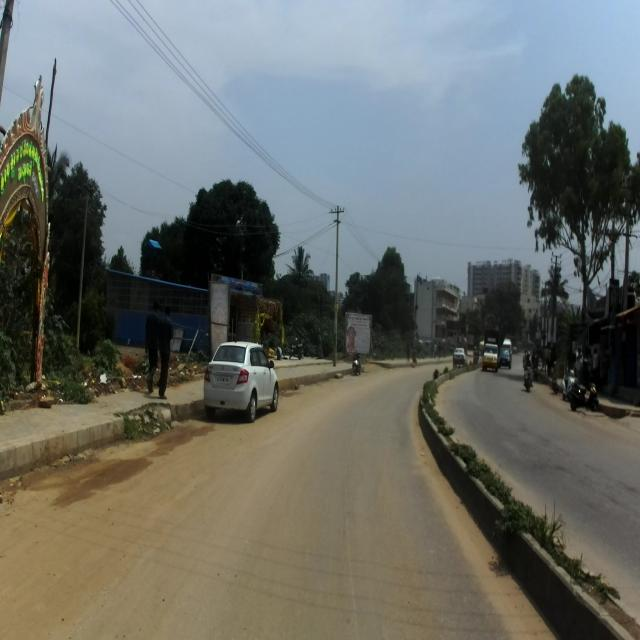Car_Maruti-Suzuki: (203, 339, 279, 422), (452, 346, 466, 366)
scooter: (352, 350, 361, 374)
truck: (482, 329, 500, 374)
